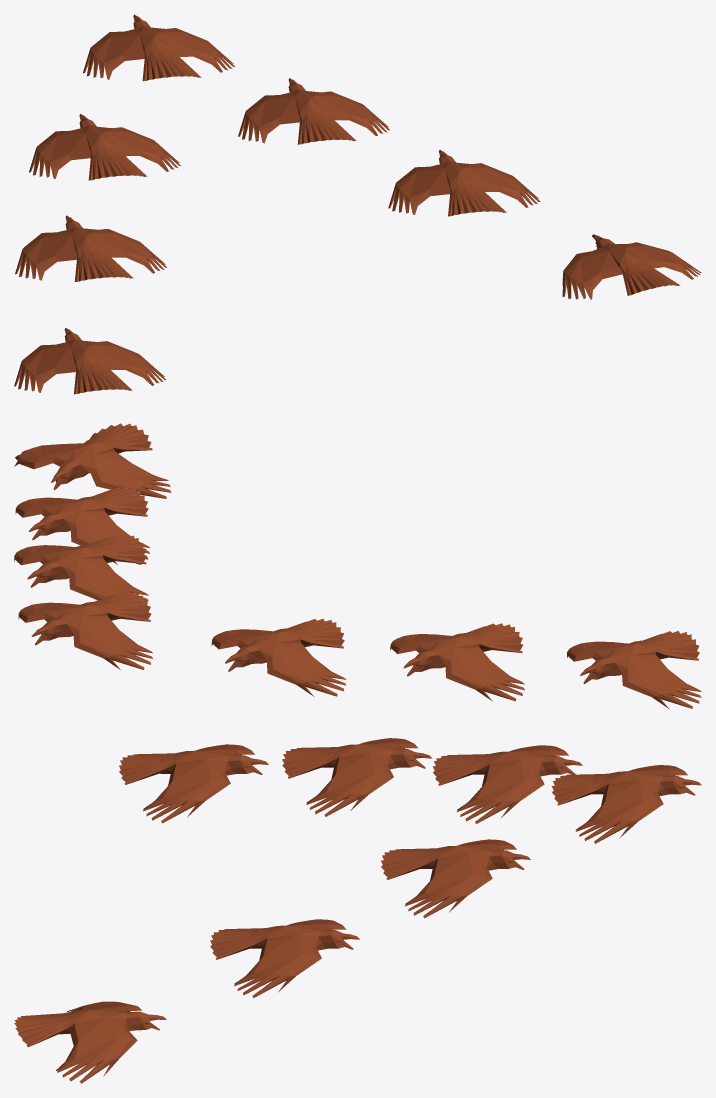
File: Bird_03.obj
3 views of the same model, one above another, from view 1: azimuth 30°, elevation 25°; view 2: azimuth 150°, elevation 25°; view 3: azimuth 270°, elevation 25° (orthographic). The views are drawn at different scales.
Visible parts, largest first — view 1: pCube7, pCube7.4, pCube7.3, pCube7.5, pCube7.1, pCube7.2, pCube7.6; view 2: pCube7.6, pCube7.1, pCube7.4, pCube7, pCube7.5, pCube7.3, pCube7.2; view 3: pCube7.6, pCube7, pCube7.2, pCube7.4, pCube7.5, pCube7.3, pCube7.1.
Boxes of the visible parts, x1,y1,x2,y2 form: pCube7: [83, 14, 234, 81]; pCube7.4: [15, 215, 167, 281]; pCube7.3: [238, 78, 389, 144]; pCube7.5: [14, 328, 166, 394]; pCube7.1: [29, 114, 181, 180]; pCube7.2: [388, 150, 540, 216]; pCube7.6: [562, 234, 701, 299]; pCube7.6: [14, 423, 171, 498]; pCube7.1: [211, 618, 346, 696]; pCube7.4: [390, 623, 524, 701]; pCube7: [18, 592, 152, 669]; pCube7.5: [567, 631, 701, 709]; pCube7.3: [14, 534, 148, 601]; pCube7.2: [15, 487, 150, 564]; pCube7.6: [14, 1001, 166, 1083]; pCube7: [551, 765, 701, 843]; pCube7.2: [210, 919, 359, 998]; pCube7.4: [282, 738, 431, 816]; pCube7.5: [119, 744, 268, 823]; pCube7.3: [381, 839, 530, 918]; pCube7.1: [432, 745, 582, 823].
Bounding box in the file's own units: 24.78 × 5.36 × 21.03.
